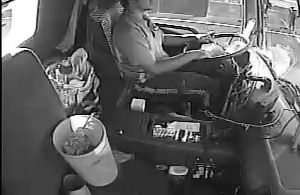paper: (169, 121, 200, 135)
